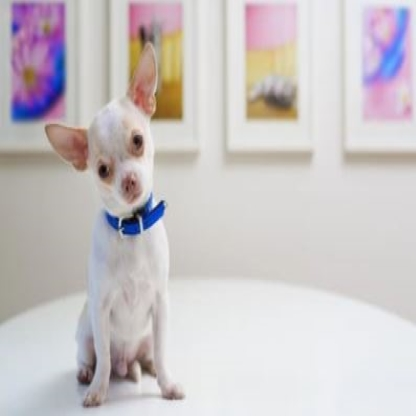chihuahua: (46, 41, 185, 409)
